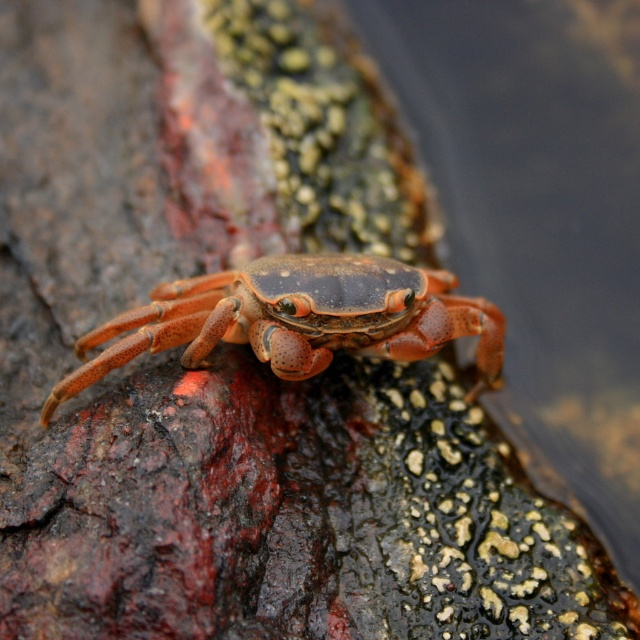Crab: (41, 248, 509, 424)
